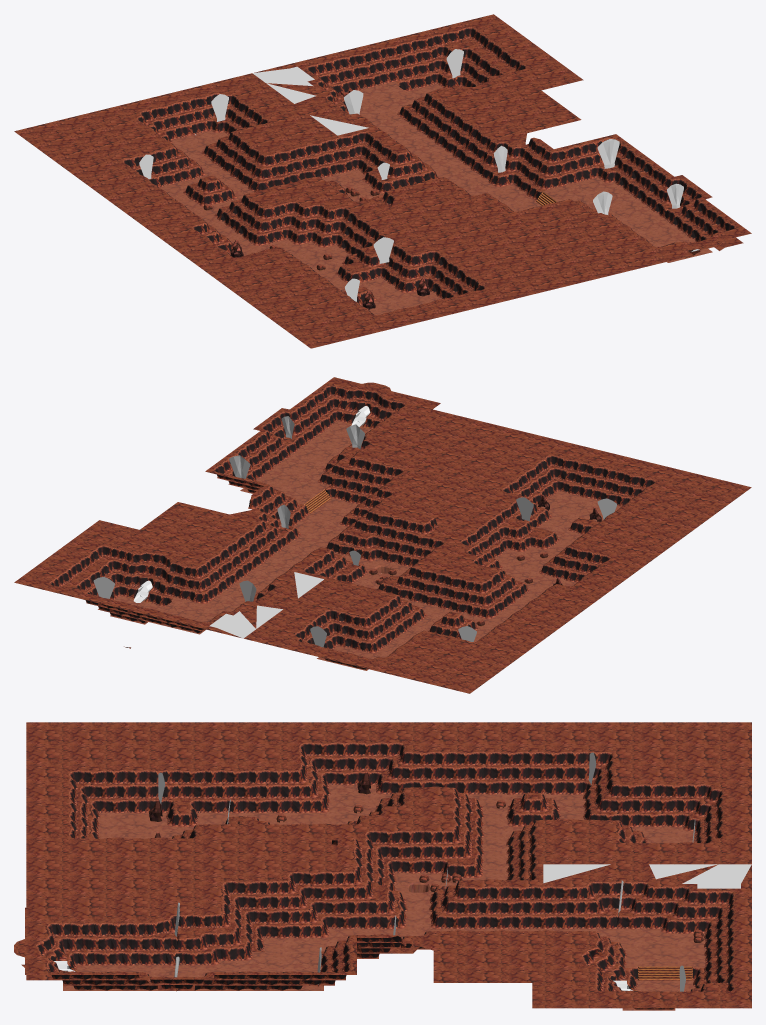
Rendered from Fiery Path.glb.
3 renders of one model, top to bottom at view 1: azimuth 30°, elevation 25°; view 2: azimuth 150°, elevation 25°; view 3: azimuth 270°, elevation 25°, orthographic. The views are drawn at different scales.
Parts seen in each view (by area): view 1: polySurface136_DUP_2_0_node, polySurface117_1_0_node, chip_01_02_cave_basic_iwa1_DUP_0_0_node, chip_01_02_cave_basic_iwa_0_0_node, polySurface108_1_0_node, polySurface132_DUP_1_0_node, chip_01_02_cave_basic_kaidan03_0_0_node, chip_01_02_cave_basic_iwa2_DUP_0_0_node, zimen_2_0_node, polySurface138_DUP1_4_0_node, polySurface135_DUP_2_0_node, polySurface129_DUP_2_0_node (+5 smaller); view 2: polySurface136_DUP_2_0_node, polySurface117_1_0_node, chip_01_02_cave_basic_iwa_0_0_node, chip_01_02_cave_basic_kaidan03_0_0_node, polySurface132_DUP_1_0_node, polySurface108_1_0_node, chip_01_02_cave_basic_iwa1_DUP_0_0_node, chip_01_02_cave_basic_iwa2_DUP_0_0_node, zimen_2_0_node, polySurface138_DUP1_4_0_node, polySurface135_DUP_2_0_node, polySurface129_DUP_2_0_node (+4 smaller); view 3: polySurface136_DUP_2_0_node, chip_01_02_cave_basic_iwa_0_0_node, polySurface117_1_0_node, chip_01_02_cave_basic_iwa1_DUP_0_0_node, polySurface132_DUP_1_0_node, polySurface108_1_0_node, chip_01_02_cave_basic_kaidan03_0_0_node, polySurface138_DUP1_4_0_node, zimen_2_0_node, chip_01_02_cave_basic_iwa2_DUP_0_0_node, polySurface135_DUP_2_0_node, polySurface129_DUP_2_0_node (+1 smaller).
Part boxes in pixels (x1,y1,x2,y2): polySurface136_DUP_2_0_node: (134,148,598,348); polySurface117_1_0_node: (14,55,414,219); chip_01_02_cave_basic_iwa1_DUP_0_0_node: (122,61,415,217); chip_01_02_cave_basic_iwa_0_0_node: (185,149,529,315); polySurface108_1_0_node: (463,110,751,278); polySurface132_DUP_1_0_node: (325,14,583,148); chip_01_02_cave_basic_kaidan03_0_0_node: (458,131,736,257); chip_01_02_cave_basic_iwa2_DUP_0_0_node: (332,27,527,158); zimen_2_0_node: (430,159,712,262); polySurface138_DUP1_4_0_node: (204,177,441,315); polySurface135_DUP_2_0_node: (359,82,457,165); polySurface129_DUP_2_0_node: (160,130,365,220); polySurface136_DUP_2_0_node: (318,420,751,609); polySurface117_1_0_node: (174,549,583,693); chip_01_02_cave_basic_iwa_0_0_node: (317,455,656,616); chip_01_02_cave_basic_kaidan03_0_0_node: (213,385,405,560); polySurface132_DUP_1_0_node: (14,511,258,625); polySurface108_1_0_node: (165,377,477,552); chip_01_02_cave_basic_iwa1_DUP_0_0_node: (182,549,534,669); chip_01_02_cave_basic_iwa2_DUP_0_0_node: (49,531,264,648); zimen_2_0_node: (240,421,371,567); polySurface138_DUP1_4_0_node: (334,491,620,619); polySurface135_DUP_2_0_node: (110,561,290,634); polySurface129_DUP_2_0_node: (317,598,505,670); polySurface136_DUP_2_0_node: (26,722,473,928); chip_01_02_cave_basic_iwa_0_0_node: (68,742,473,938); polySurface117_1_0_node: (458,722,751,933); chip_01_02_cave_basic_iwa1_DUP_0_0_node: (458,751,735,942); polySurface132_DUP_1_0_node: (466,907,751,1008); polySurface108_1_0_node: (14,893,466,991); chip_01_02_cave_basic_kaidan03_0_0_node: (36,899,427,990); polySurface138_DUP1_4_0_node: (97,784,484,927); zimen_2_0_node: (63,927,473,990); chip_01_02_cave_basic_iwa2_DUP_0_0_node: (581,908,735,1009); polySurface135_DUP_2_0_node: (473,928,706,1010); polySurface129_DUP_2_0_node: (473,793,694,880).
Bounding box in the file's own units: 1110 × 164 × 1211.
Materials: 21 (20 with a texture image).
